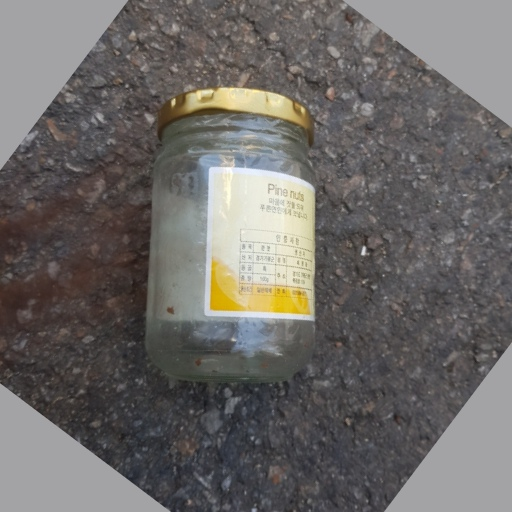Glass_5: (131, 80, 327, 380)
